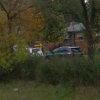Tree: (27, 0, 98, 33)
